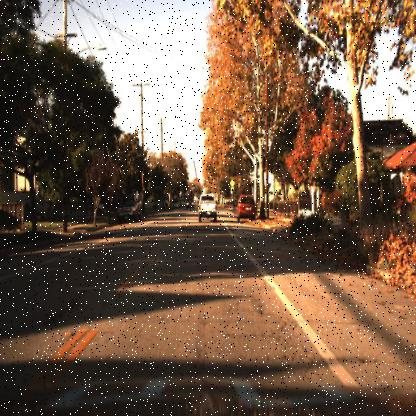car: (116, 192, 146, 224), (237, 188, 256, 221), (198, 193, 217, 225), (185, 198, 197, 210)
